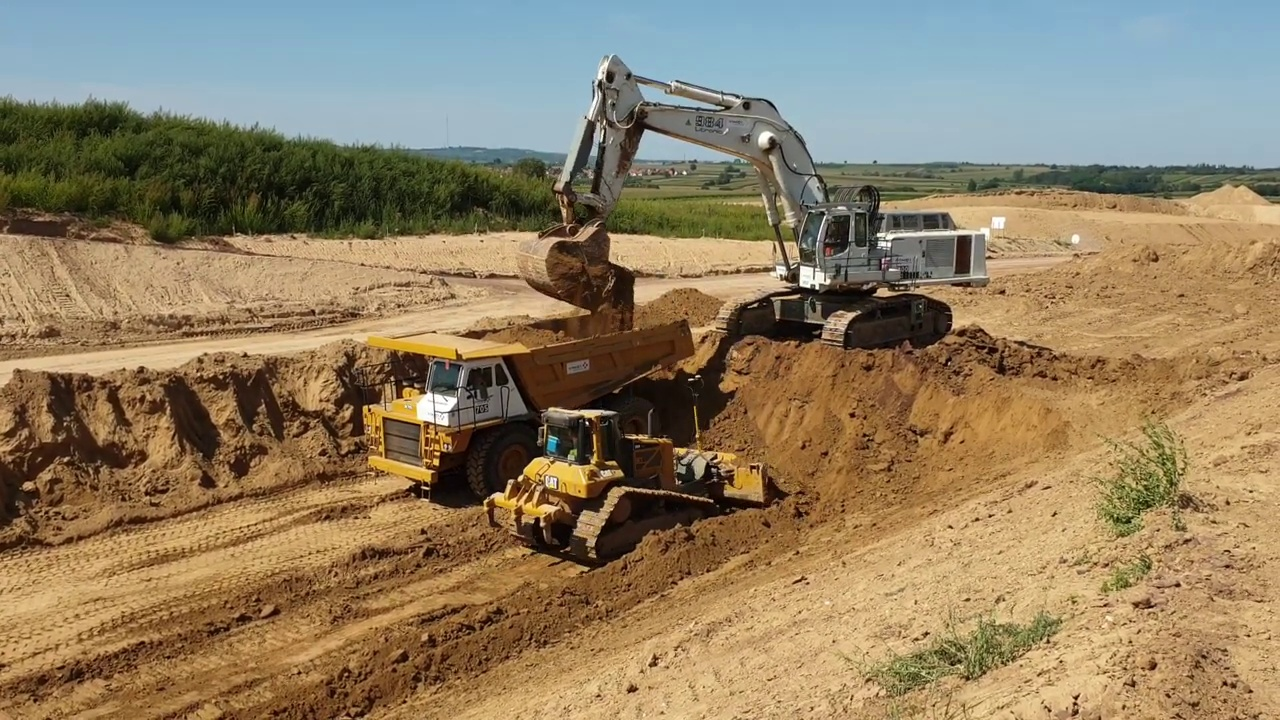bulldozer: (484, 371, 774, 569)
excavator: (514, 48, 994, 354)
truck: (347, 306, 701, 513)
